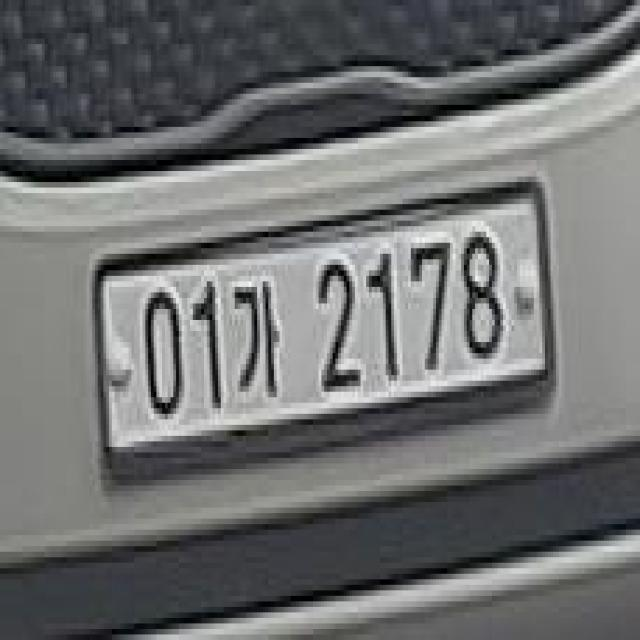illegal_plate: (88, 172, 559, 498)
